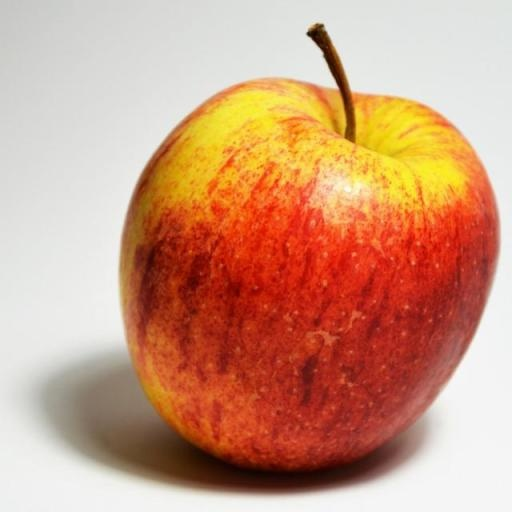fruit: (120, 79, 498, 470)
